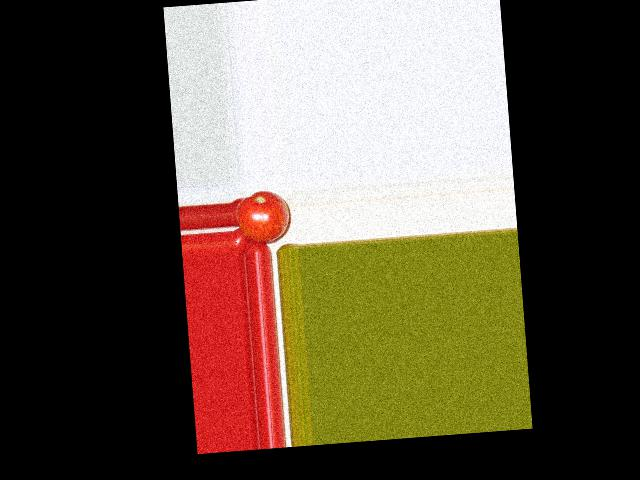tomato: (234, 188, 291, 245)
